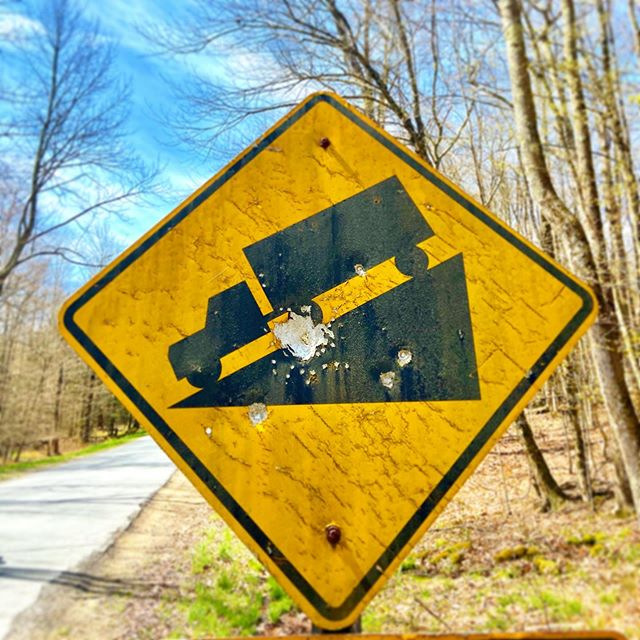sign: (77, 81, 570, 609)
street: (1, 430, 183, 640)
tree: (1, 1, 152, 291)
vegetation: (470, 1, 640, 525)
